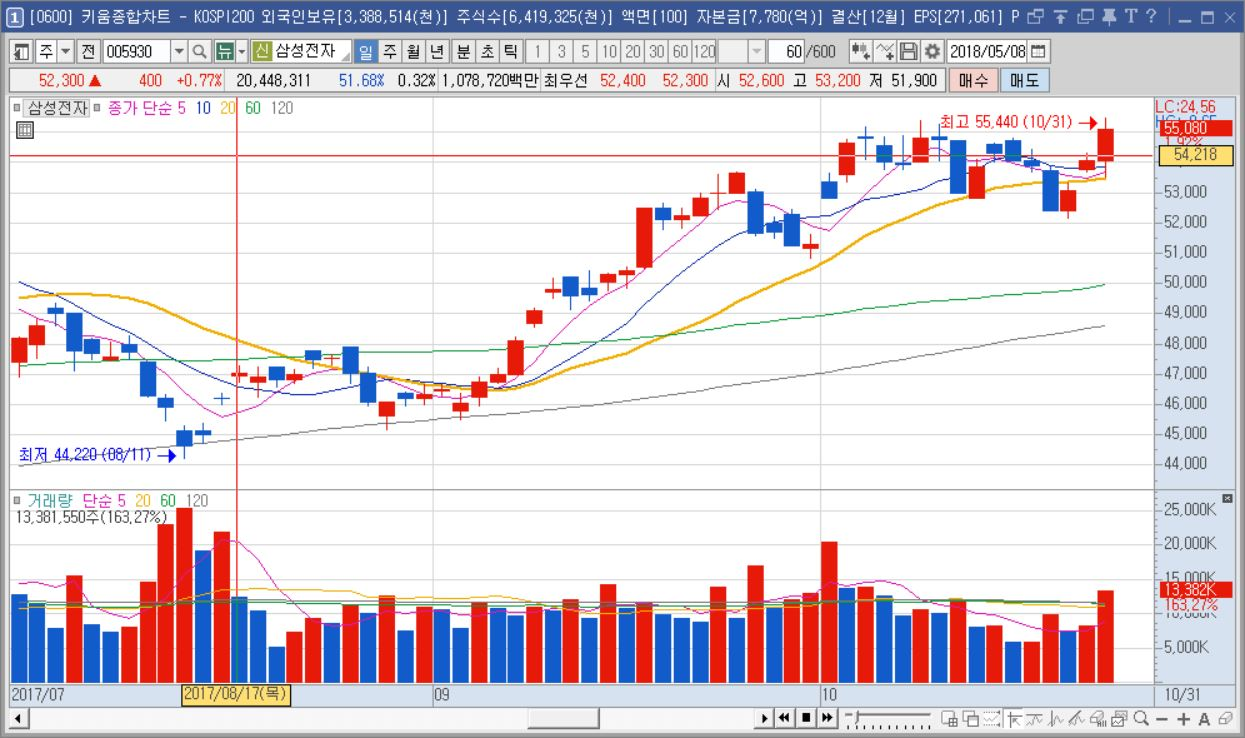up: (451, 108, 1114, 680)
